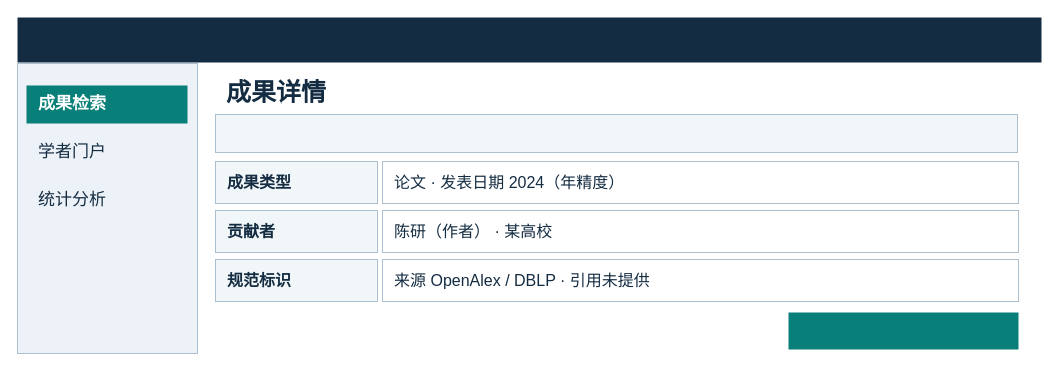
The diagram is 1059 pixels wide and 371 high, and some of its shapes have lost their labels. The shapes that lost their labels are listed below. From the top down, each one's centre as x and y in pixels, then its label:
At point (529, 39): "学术成果分享平台 访客 · 登录".
At point (616, 133): "图神经网络综述 · 已发布版本 42".
At point (903, 330): "返回检索结果".
